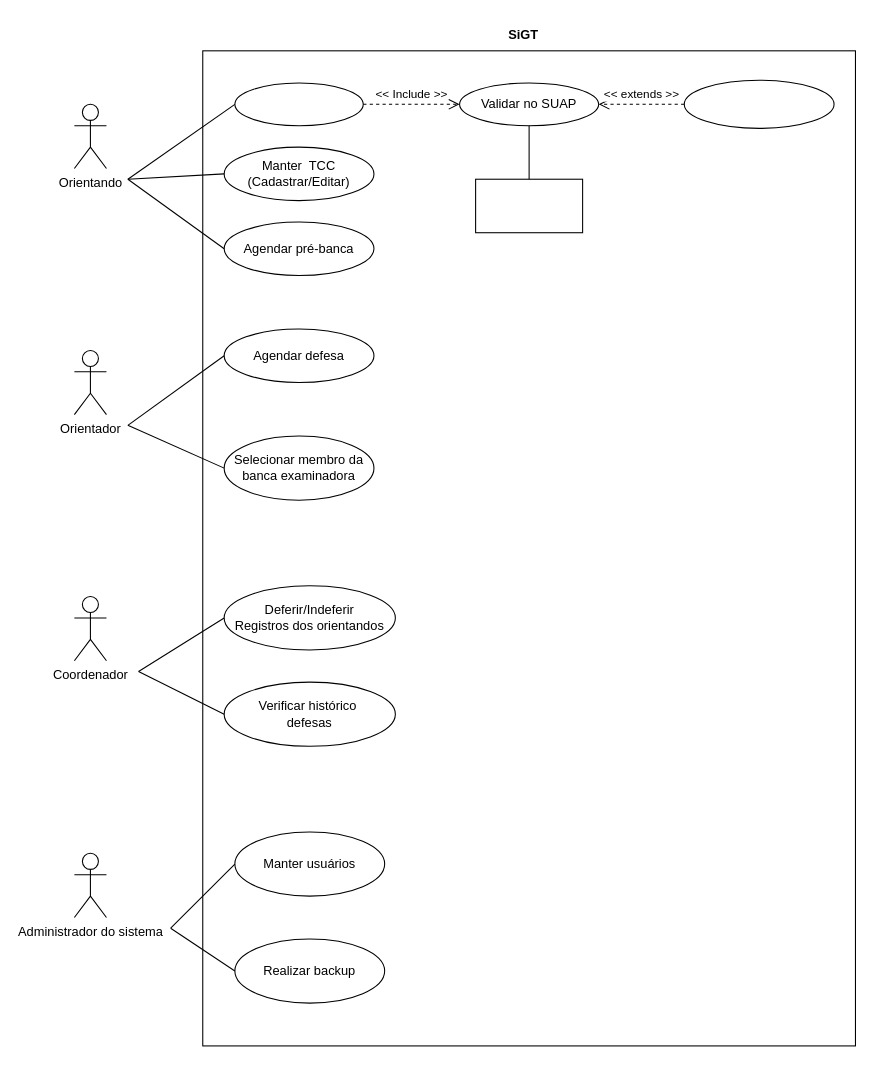
Image size: 874x1065. Some labels were removed from this diagram. The shapes that lost their labels are listed below. From the top down, each one's box as (x1, y1, x2, y2) in pixels, then its label:
(234, 82, 363, 126): Login
(683, 79, 834, 128): Esqueci minha senha
(475, 178, 583, 233): SUAP
